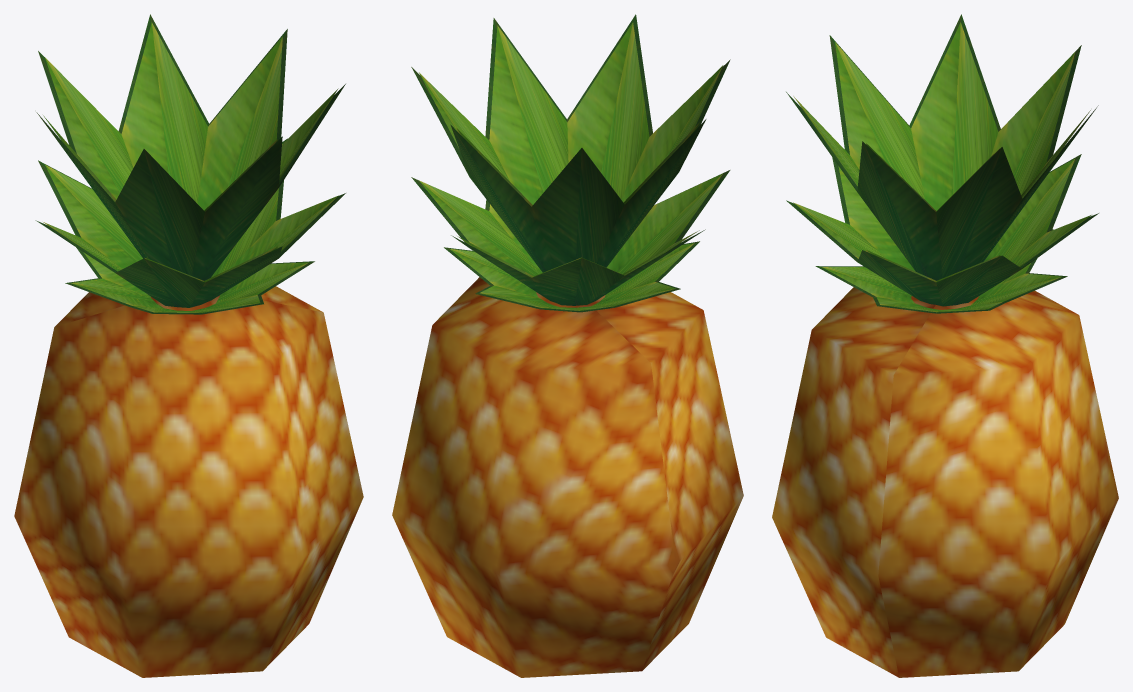
Rendered from Pineapple.fbx.
3 renders of one model, left to right at view 1: azimuth 30°, elevation 25°; view 2: azimuth 150°, elevation 25°; view 3: azimuth 270°, elevation 25°, orthographic.
Parts seen in each view (by area): view 1: Pineapple; view 2: Pineapple; view 3: Pineapple.
Part boxes in pixels (x1=…): Pineapple: x1=14, y1=14, x2=363, y2=677; Pineapple: x1=392, y1=14, x2=743, y2=677; Pineapple: x1=772, y1=14, x2=1118, y2=677.
Size of the model in its own units: 127 by 242 by 134.
